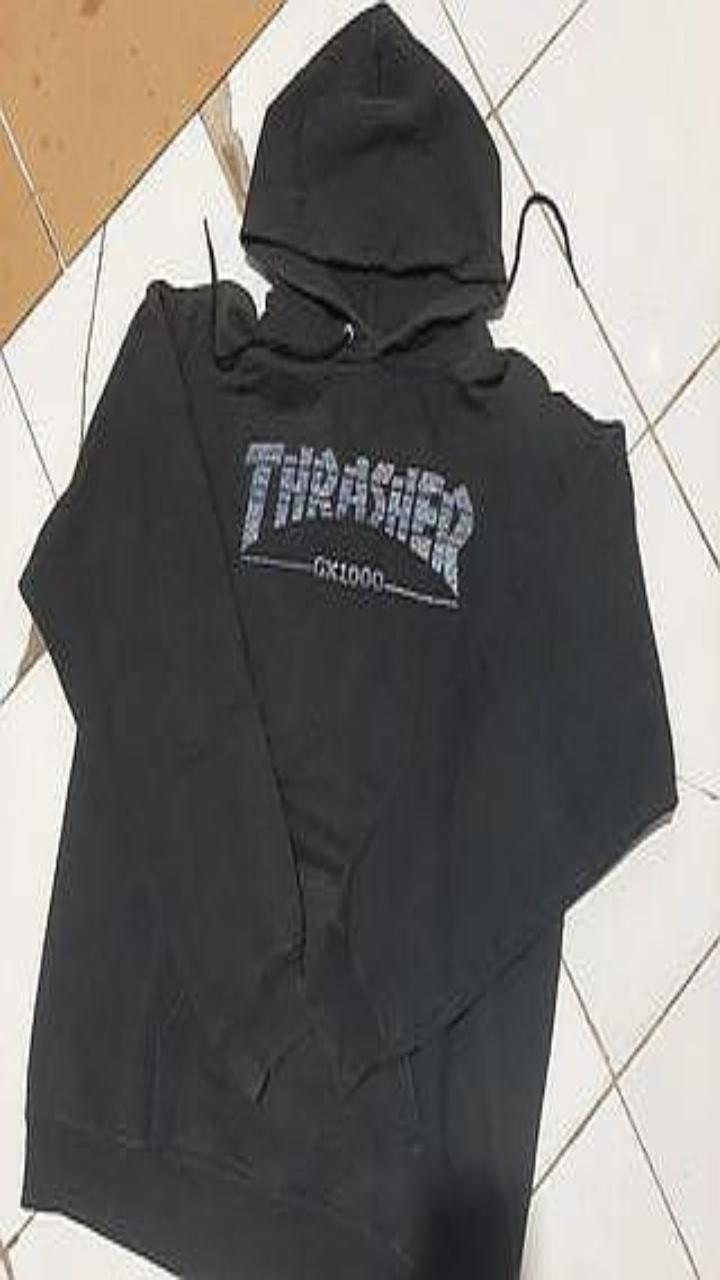Hoodie: (19, 4, 676, 1279)
